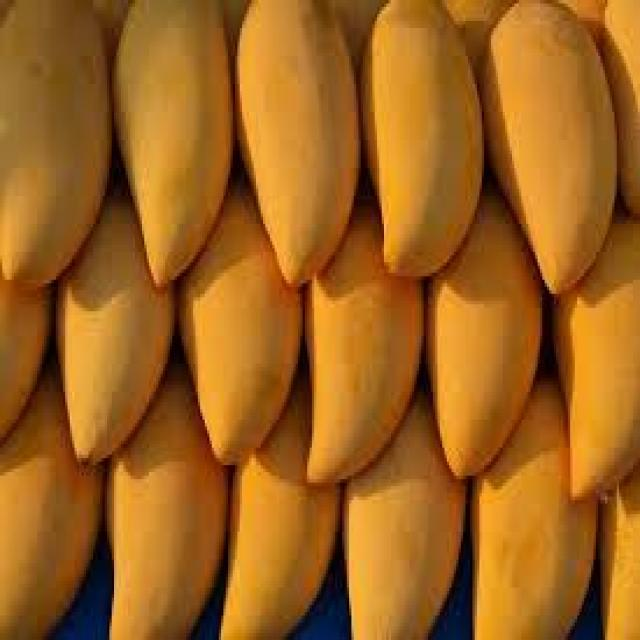mango: (233, 0, 361, 290)
